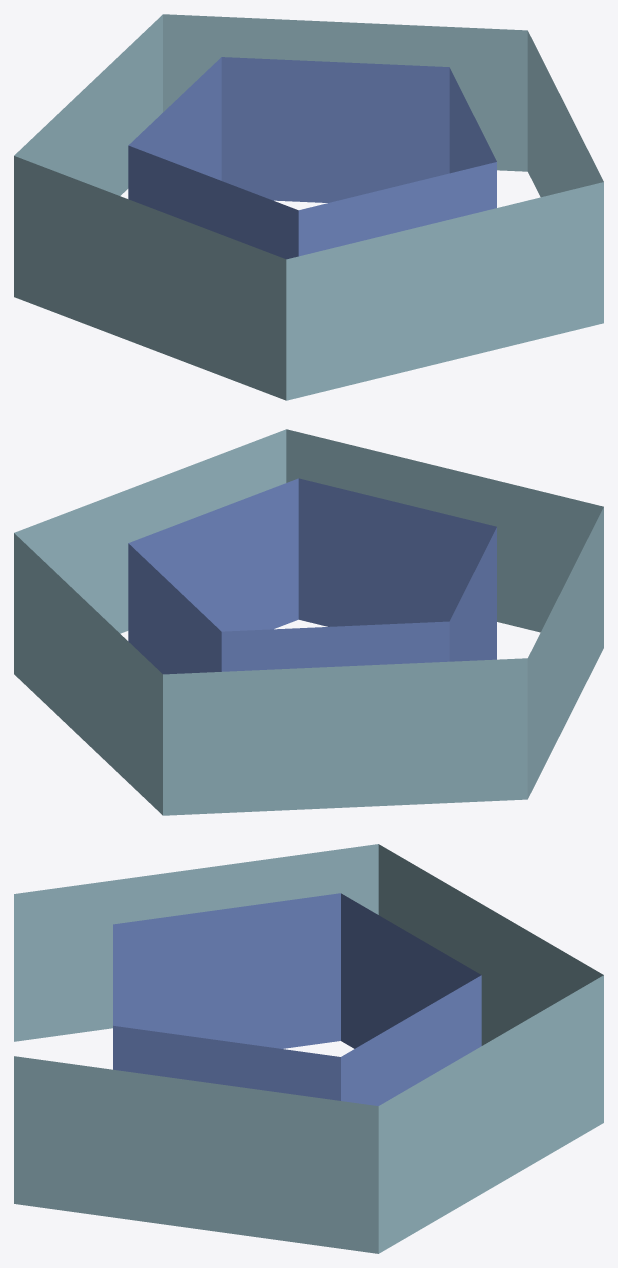
File: laser_cylinder.fbx
The picture shows the model from 3 angles, top to bottom: view 1: azimuth 30°, elevation 25°; view 2: azimuth 150°, elevation 25°; view 3: azimuth 270°, elevation 25°; orthographic projection. The views are drawn at different scales.
Parts seen in each view (by area): view 1: Cylinder, Cylinder.001; view 2: Cylinder, Cylinder.001; view 3: Cylinder, Cylinder.001.
Part boxes in pixels (bbox=[...]): Cylinder: bbox=[14, 14, 603, 400]; Cylinder.001: bbox=[128, 57, 496, 259]; Cylinder: bbox=[14, 429, 603, 815]; Cylinder.001: bbox=[128, 478, 496, 674]; Cylinder: bbox=[14, 844, 603, 1253]; Cylinder.001: bbox=[113, 893, 481, 1105].
Size of the model in its own units: 190 by 50 by 181.
